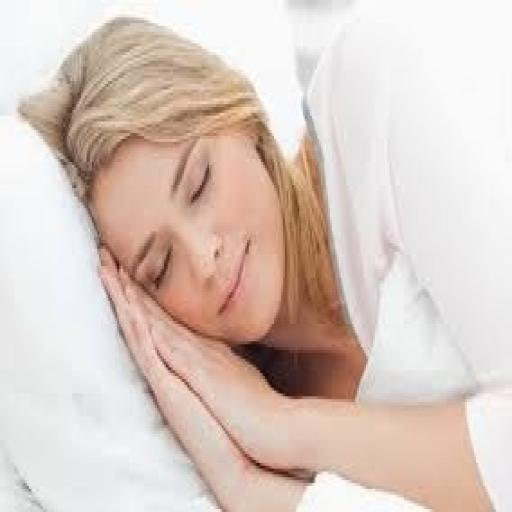sleeping: (16, 9, 501, 509)
